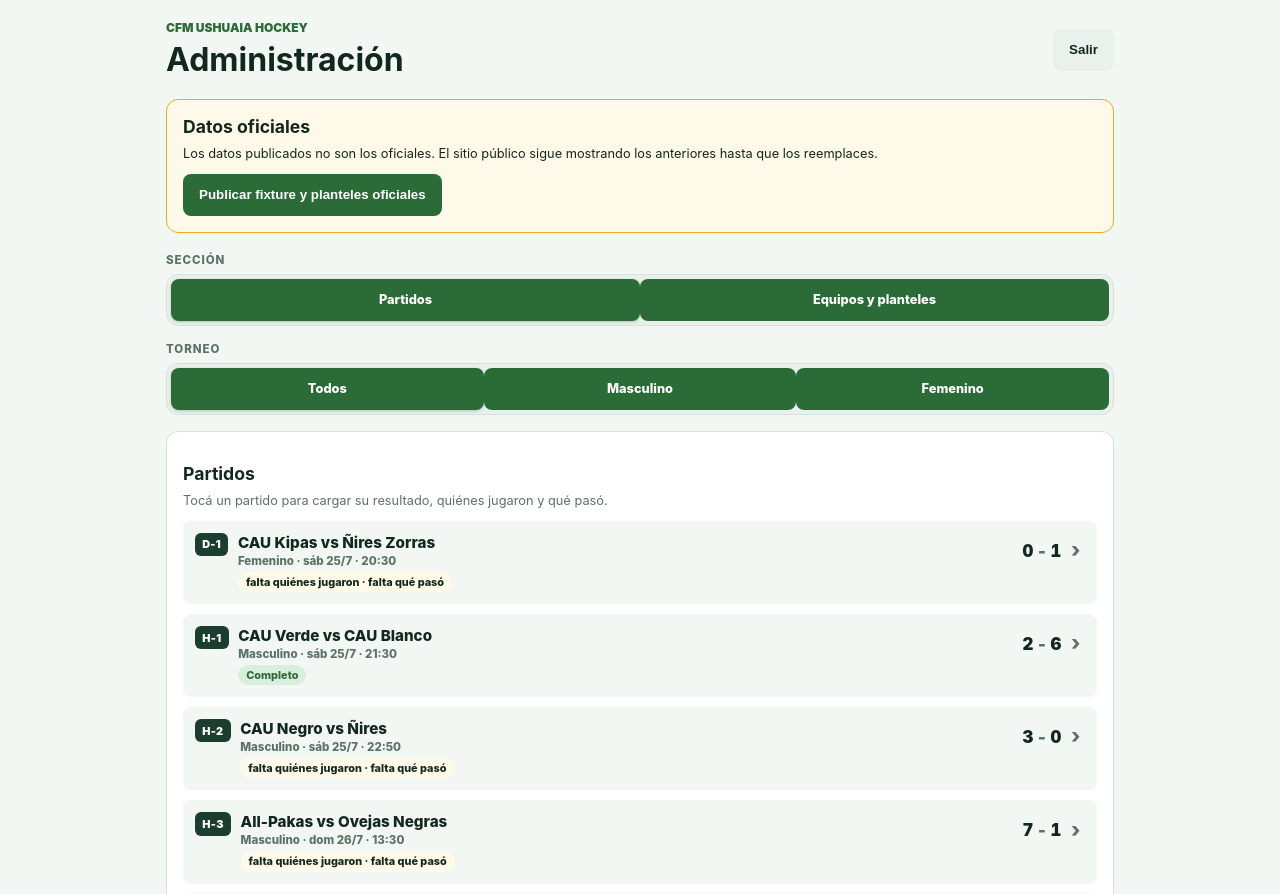
it: AdminApp › when the operator is looking for the match on their paper sheet › should open the match it was told to open
Expected: the heading "Partidos" is shown, [183,463,255,484]
Click the button that starts with "H-1": (212, 638) [183,614,1097,697]
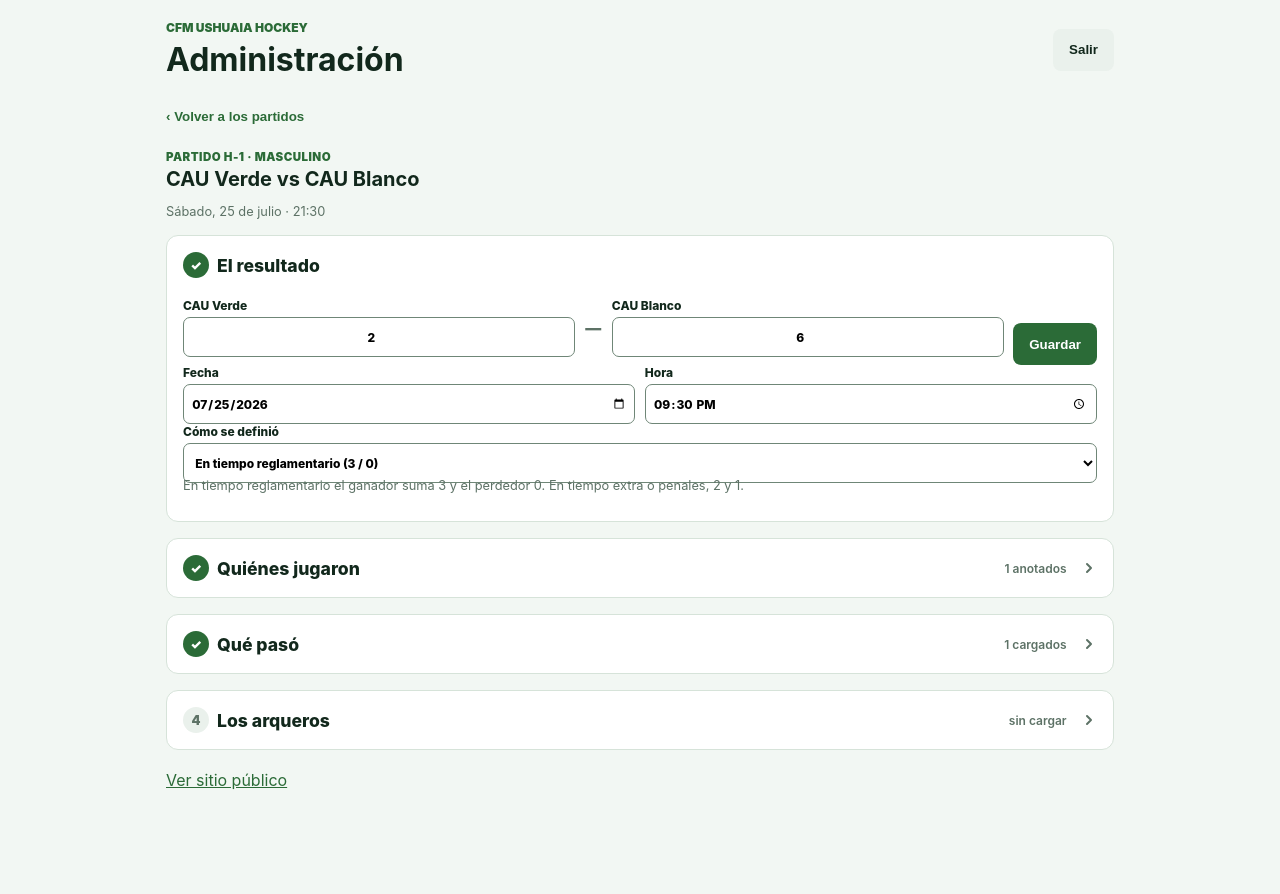
Expected: the heading "✓ Qué pasó 1 cargados" is shown, [183,631,1097,657]
Expected: the heading "✓ El resultado" is shown, [183,252,320,278]
Expected: the heading "✓ Quiénes jugaron 1 anotados" is shown, [183,555,1097,581]
